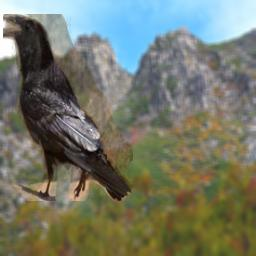Crow: (3, 14, 133, 201)
